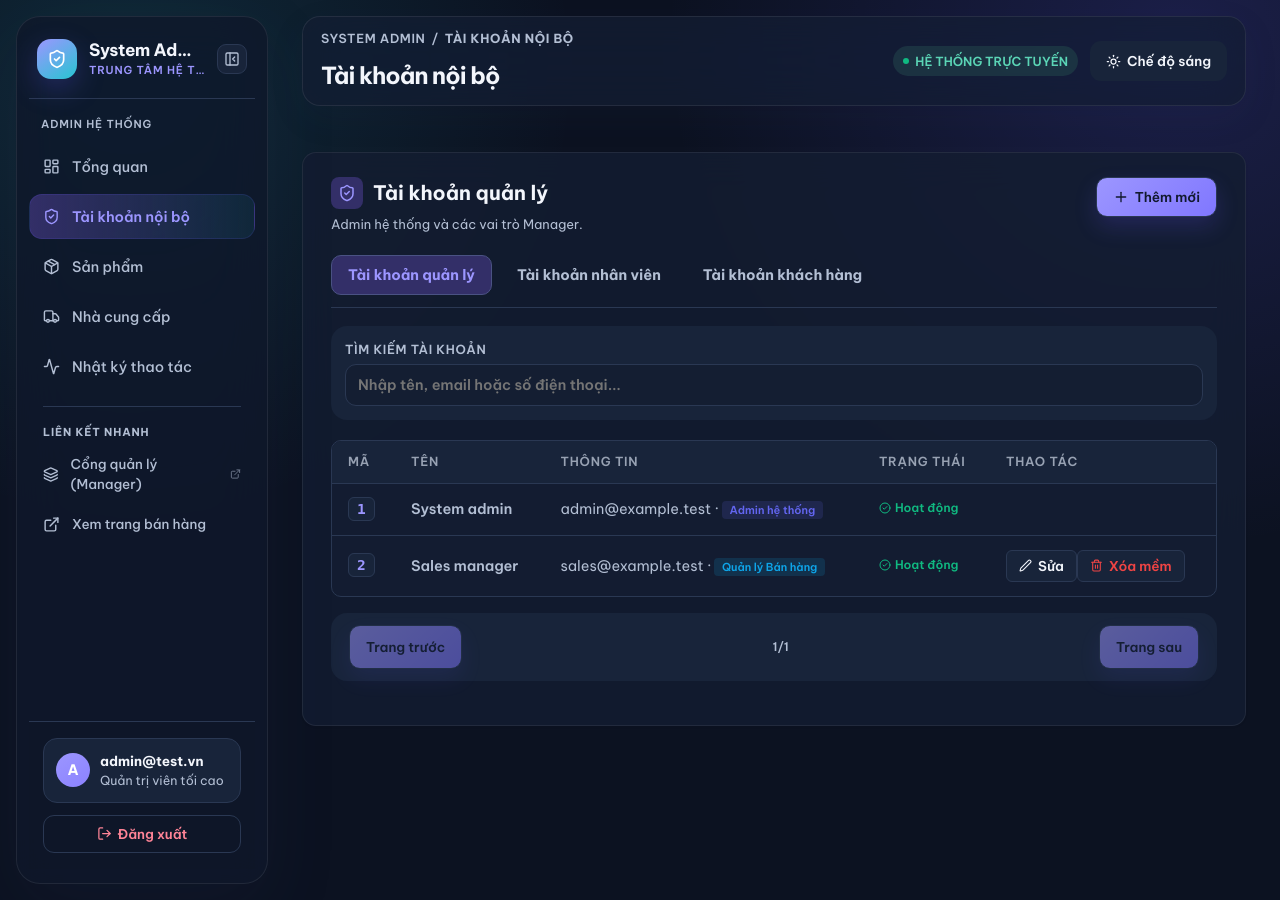
splits admin accounts into manager, employee, and customer tabs
Check: the text "System admin" is shown, box [395,483,544,535]
Check: the text "Sales manager" is shown, box [395,535,544,596]
Click the tab "Tài khoản nhân viên" at (589, 274), box [500,254,678,294]
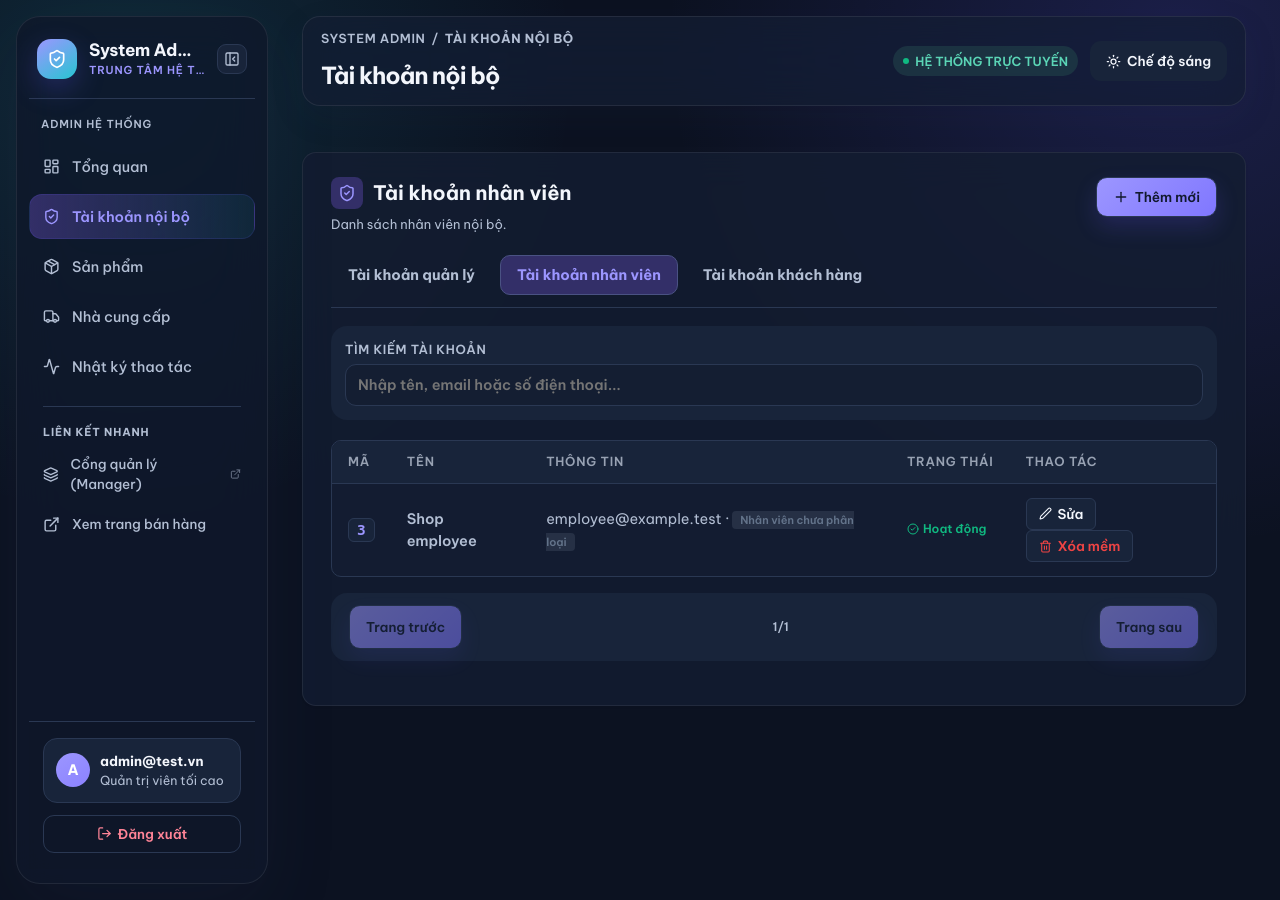
Check: the text "Shop employee" is shown, box [391,483,530,576]
Check: the text "Sales manager" is gone
Click the tab "Tài khoản khách hàng" at (782, 274), box [686,254,879,294]
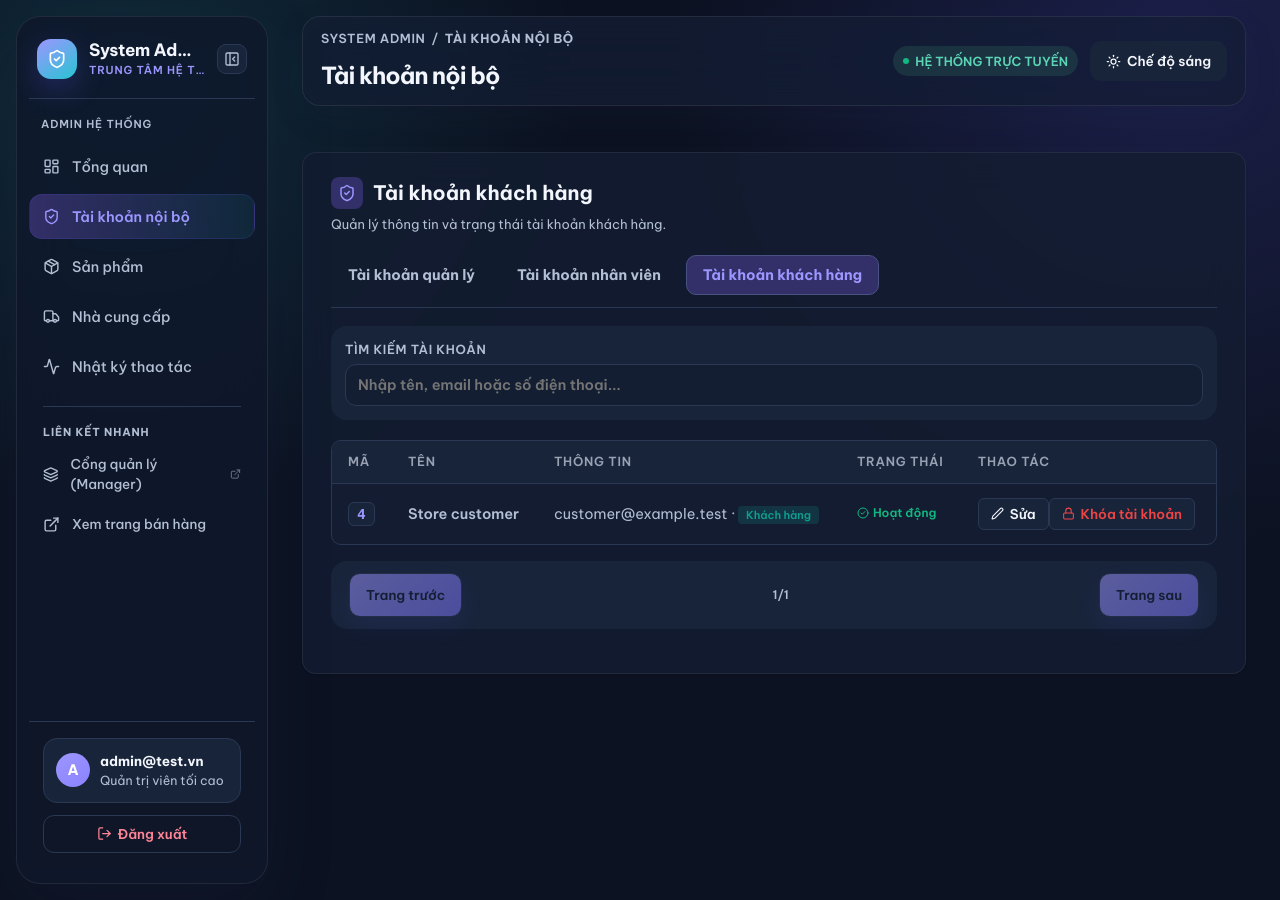
Check: the text "Store customer" is shown, box [392,483,538,544]
Check: the button "Thêm mới" is gone
Check: the button "Khóa tài khoản" is shown, box [1049,498,1195,530]
